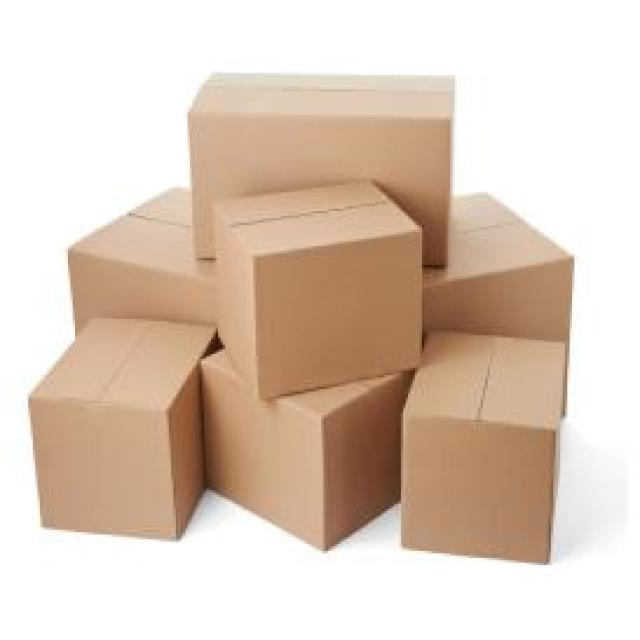cardboard: (28, 70, 568, 564)
